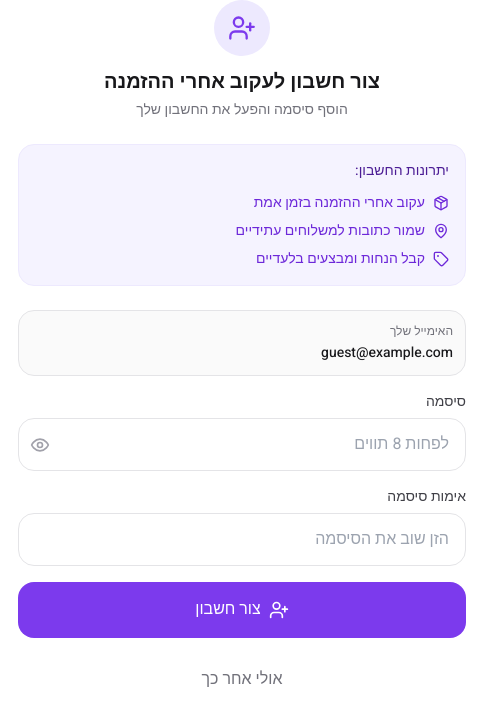
Test case: PostPurchaseSignup › Loading State › should show loading text during signup
Type "securepassword123" into the password field labelled "סיסמה" at point(242, 445), box left=18, top=418, right=466, bottom=471
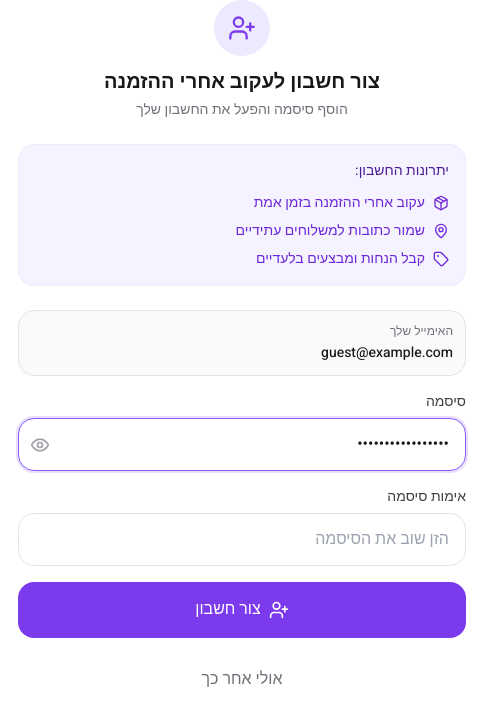
Type "securepassword123" into the password field labelled "אימות סיסמה" at point(242, 540), box left=18, top=513, right=466, bottom=566
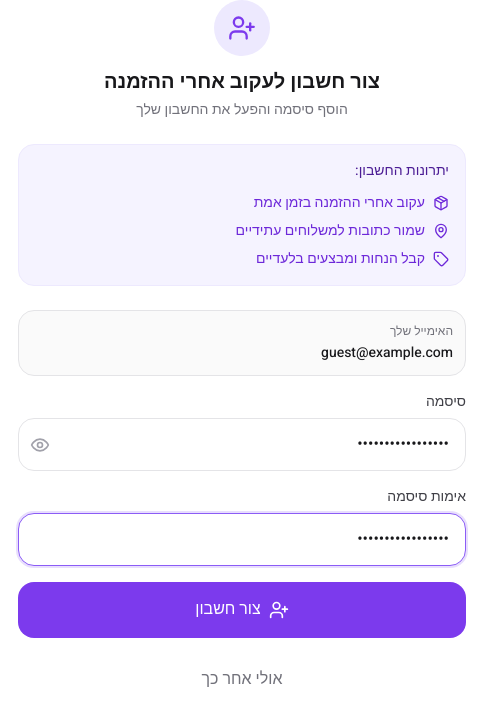
Click the button "צור חשבון" at point(242, 610), box left=18, top=582, right=466, bottom=638
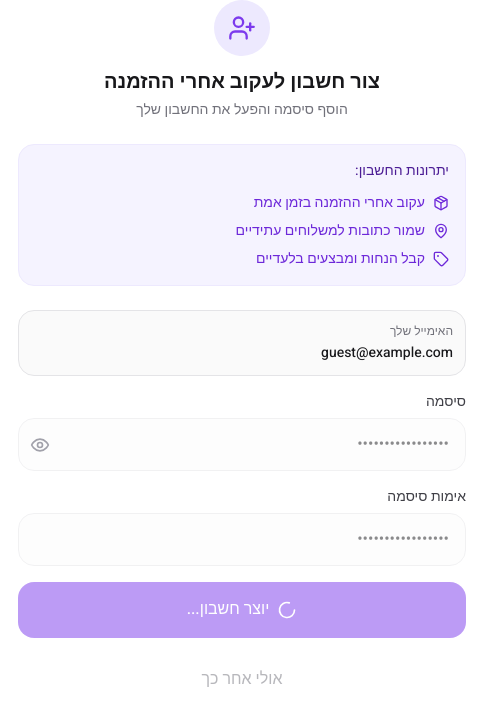
Now the text "יוצר חשבון..." is shown, box left=187, top=596, right=269, bottom=624
